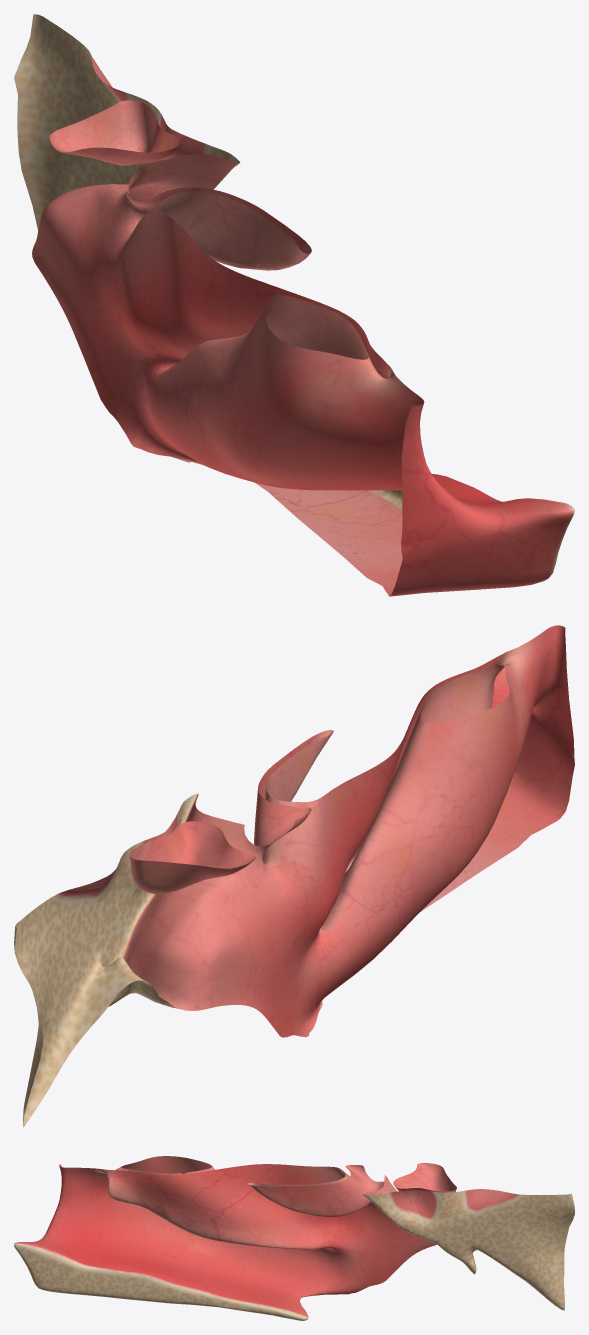
File: Nose_data_Lowerpart.fbx
The picture shows the model from 3 angles, top to bottom: view 1: azimuth 30°, elevation 25°; view 2: azimuth 150°, elevation 25°; view 3: azimuth 270°, elevation 25°; orthographic projection. The views are drawn at different scales.
Parts seen in each view (by area): view 1: nose_data_Z.002; view 2: nose_data_Z.002; view 3: nose_data_Z.002.
Part boxes in pixels (left/top/right/bottom): nose_data_Z.002: left=14, top=14, right=574, bottom=596; nose_data_Z.002: left=14, top=625, right=574, bottom=1127; nose_data_Z.002: left=14, top=1156, right=574, bottom=1320.
Size of the model in its own units: 1.61 by 2.37 by 9.36.
1 material, 1 textured.
